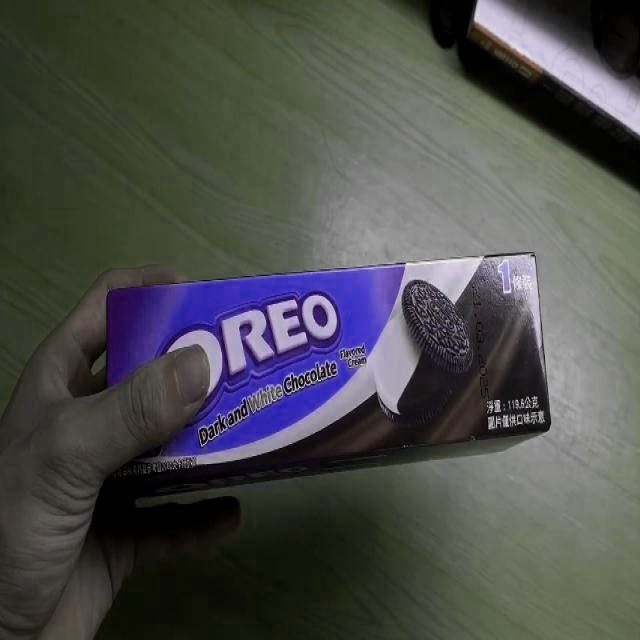Oreo: (103, 252, 552, 499)
